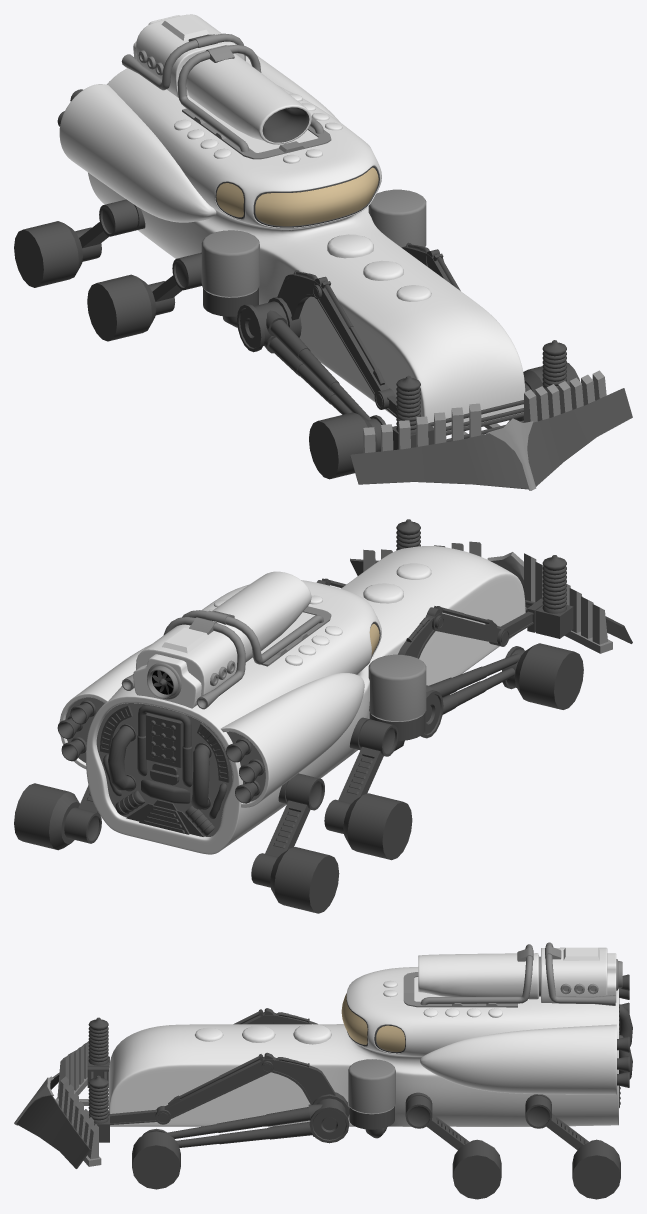
Rendered from test_truck1.obj.
The picture shows the model from 3 angles, top to bottom: view 1: azimuth 30°, elevation 25°; view 2: azimuth 150°, elevation 25°; view 3: azimuth 270°, elevation 25°; orthographic projection. The views are drawn at different scales.
Visible parts, largest first — view 1: test_truck1; view 2: test_truck1; view 3: test_truck1.
Part boxes in pixels (x1,y1,x2,y2): test_truck1: (14, 14, 632, 490); test_truck1: (14, 519, 632, 913); test_truck1: (14, 942, 632, 1199).
Bounding box in the file's own units: 2.58 × 1.96 × 5.74.
Materials: 1 (1 with a texture image).
